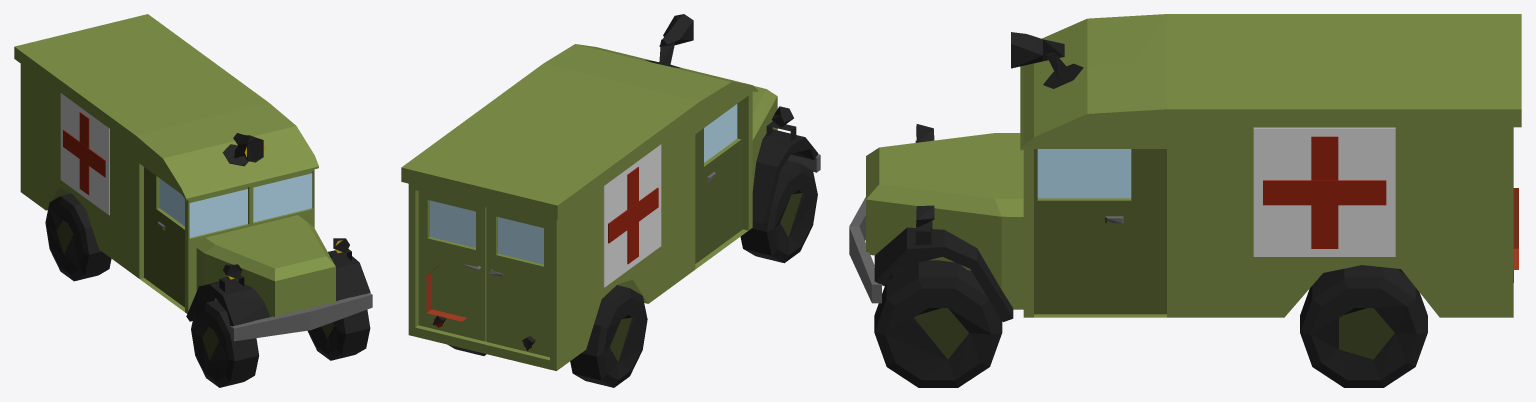
File: Ambulance_Car.glb
The picture shows the model from 3 angles, left to right: view 1: azimuth 30°, elevation 25°; view 2: azimuth 150°, elevation 25°; view 3: azimuth 270°, elevation 25°; orthographic projection. The views are drawn at different scales.
Parts seen in each view (by area): view 1: Ambulance; view 2: Ambulance; view 3: Ambulance.
Boxes of the visible parts, <box> form: Ambulance: <box>14,14,372,387</box>; Ambulance: <box>401,14,820,387</box>; Ambulance: <box>849,14,1521,387</box>.
Size of the model in its own units: 1.49 by 2.13 by 4.24.
